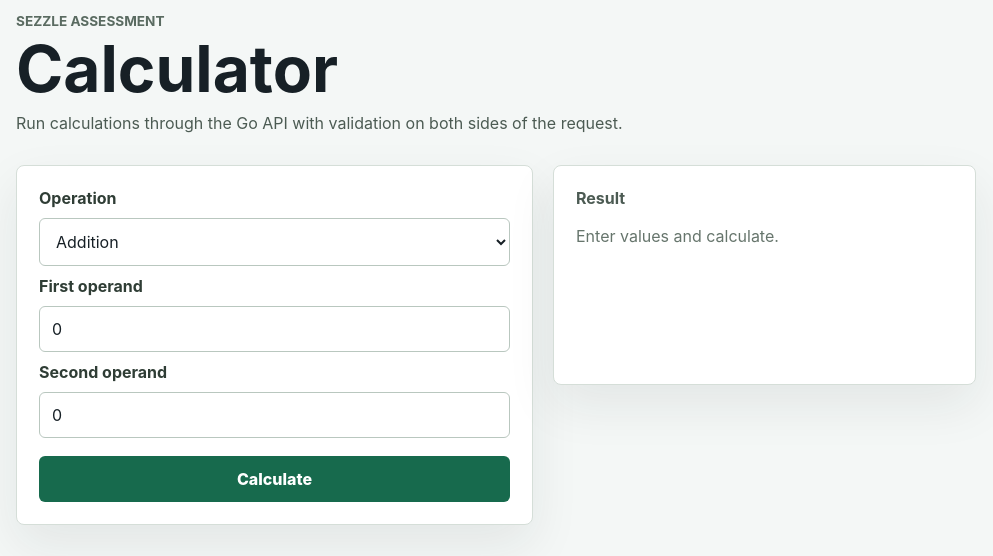
CalculatorForm › submits a calculation and displays the result
Replace the text in the field labelled "First operand" with "10": (274, 329) top-left (39, 306), bottom-right (510, 352)
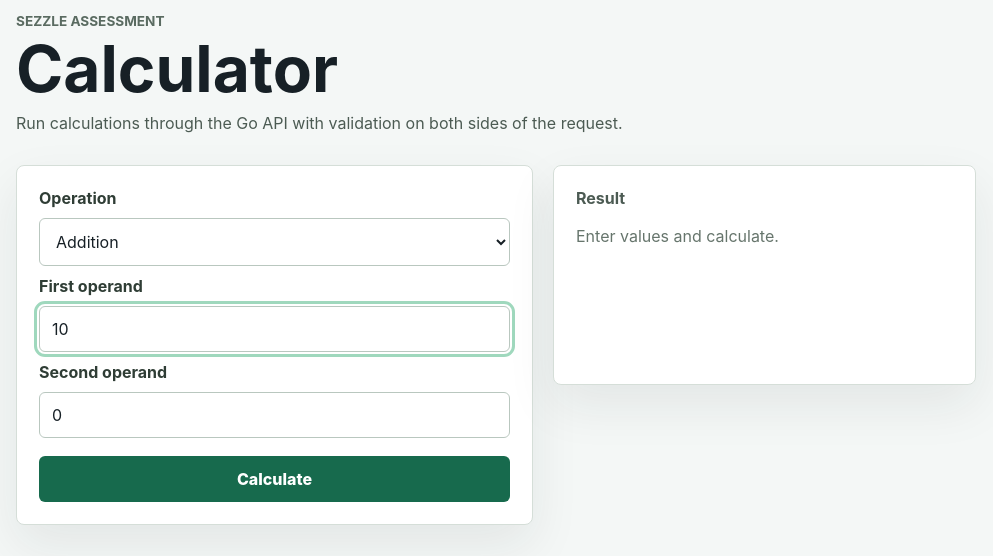
Replace the text in the field labelled "Second operand" with "2": (274, 415) top-left (39, 392), bottom-right (510, 438)
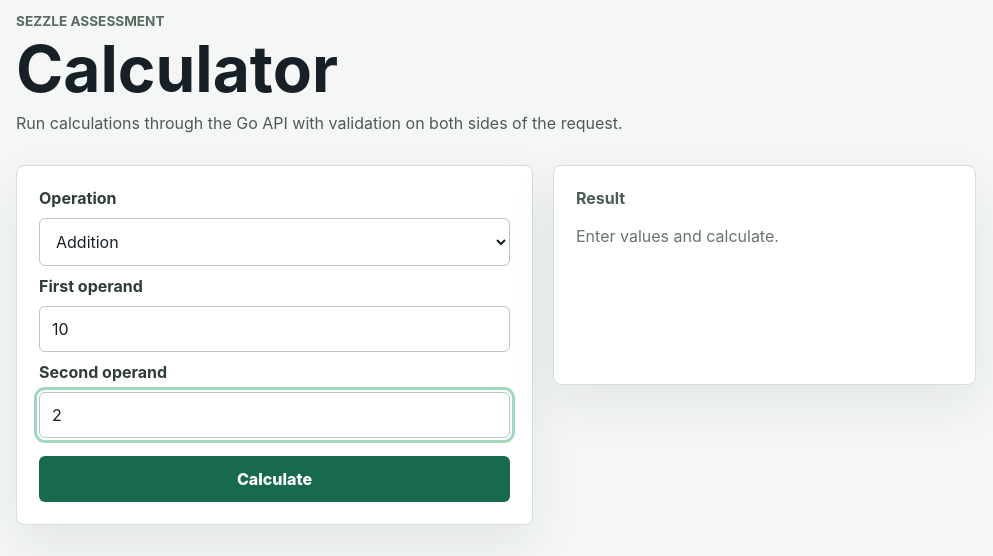
Click the button "Calculate": click(274, 479) top-left (39, 456), bottom-right (510, 502)
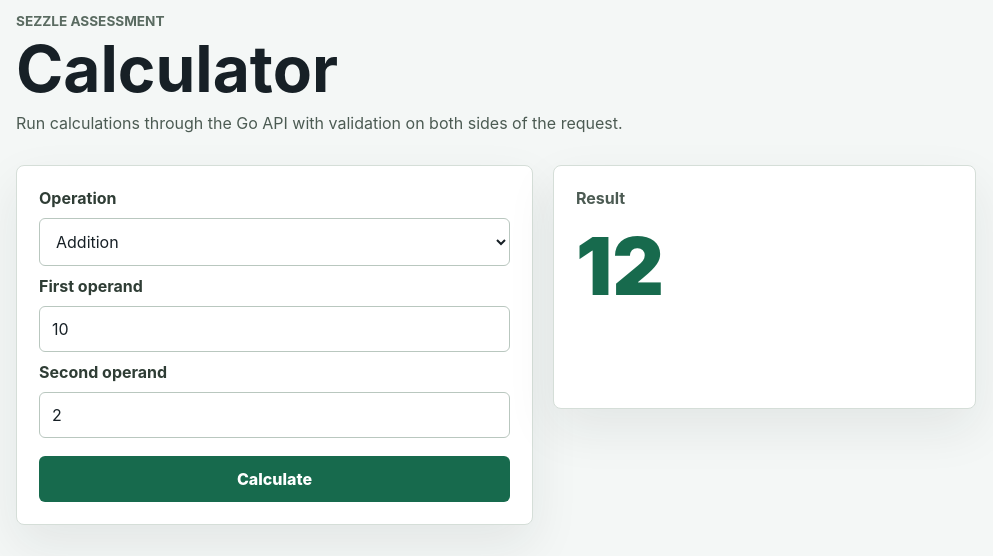
Now the text "12" is shown, box top-left (576, 217), bottom-right (664, 314)
